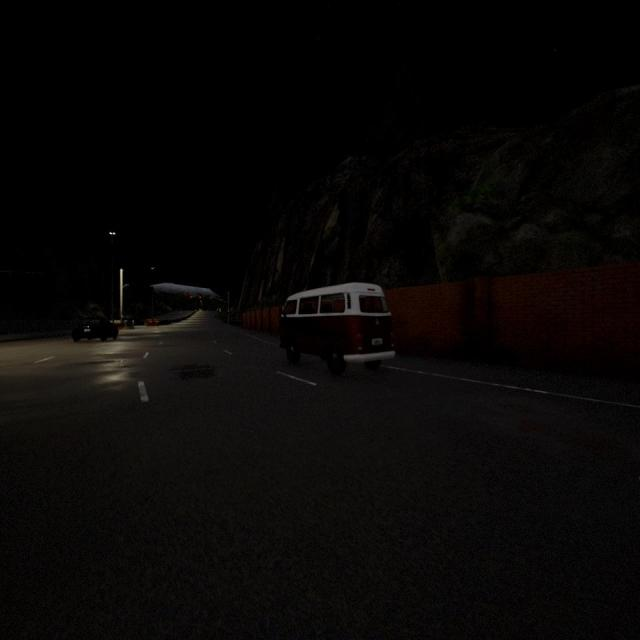Vehicle: (280, 282, 394, 374), (72, 314, 118, 343)
traffic_light: (190, 295, 192, 299), (227, 309, 229, 313), (199, 296, 202, 298), (210, 296, 212, 299)
